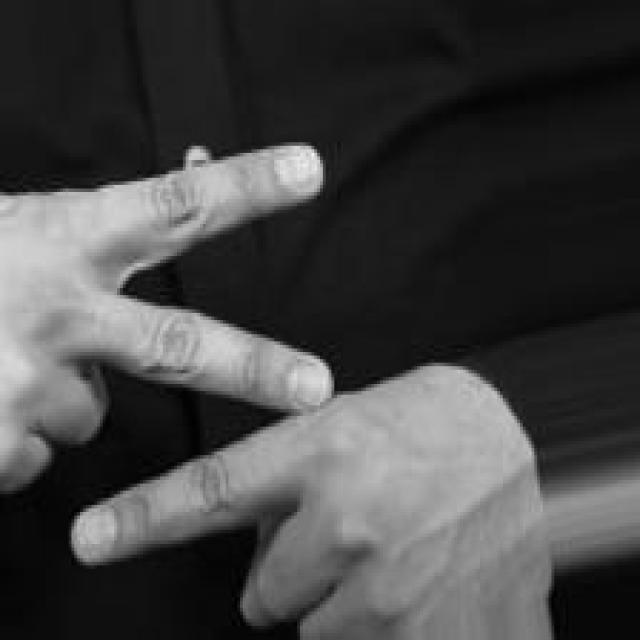Z: (0, 131, 551, 640)
